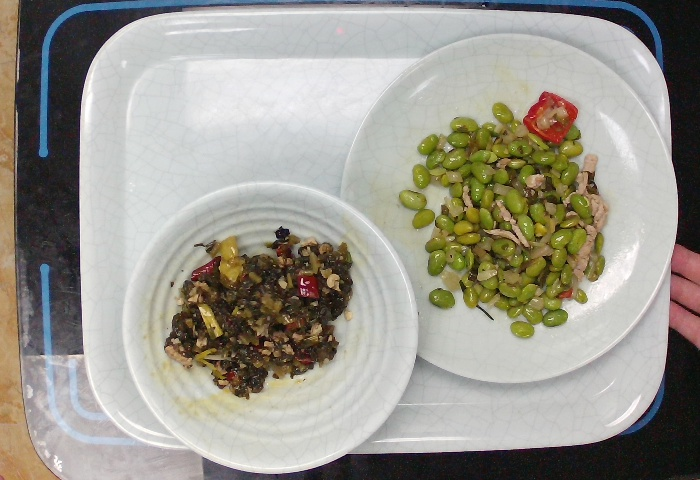JYsf-Da_Yuan_Pan: (335, 26, 685, 386)
JYsf-Xiao_Tang_Wan: (123, 181, 421, 479)
